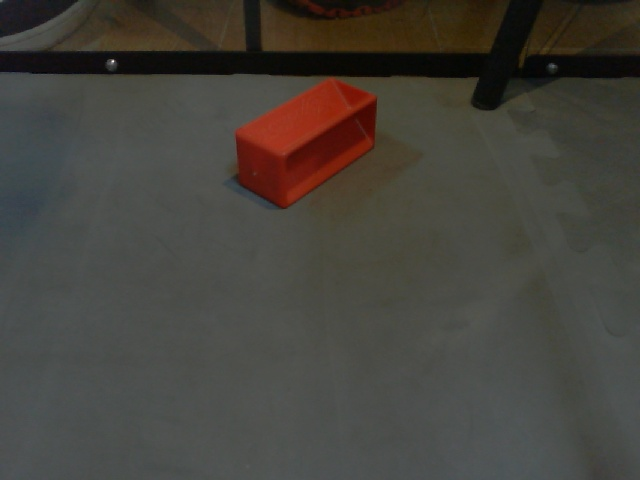RedSample: (234, 78, 378, 209)
